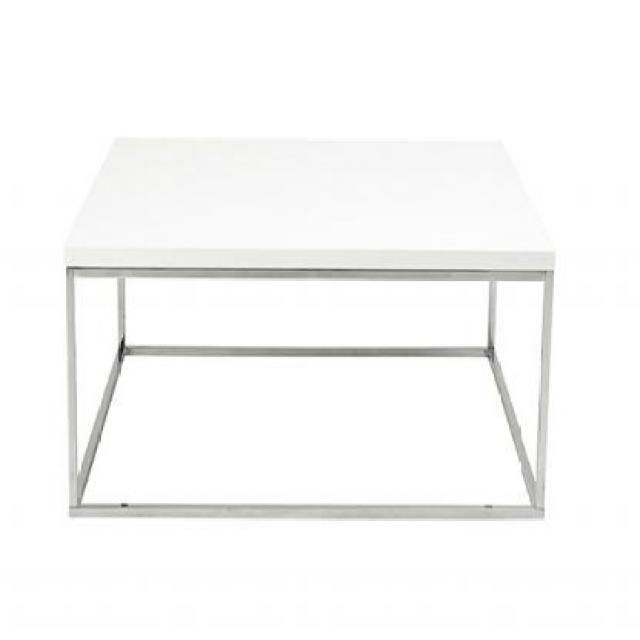table: (58, 132, 554, 526)
